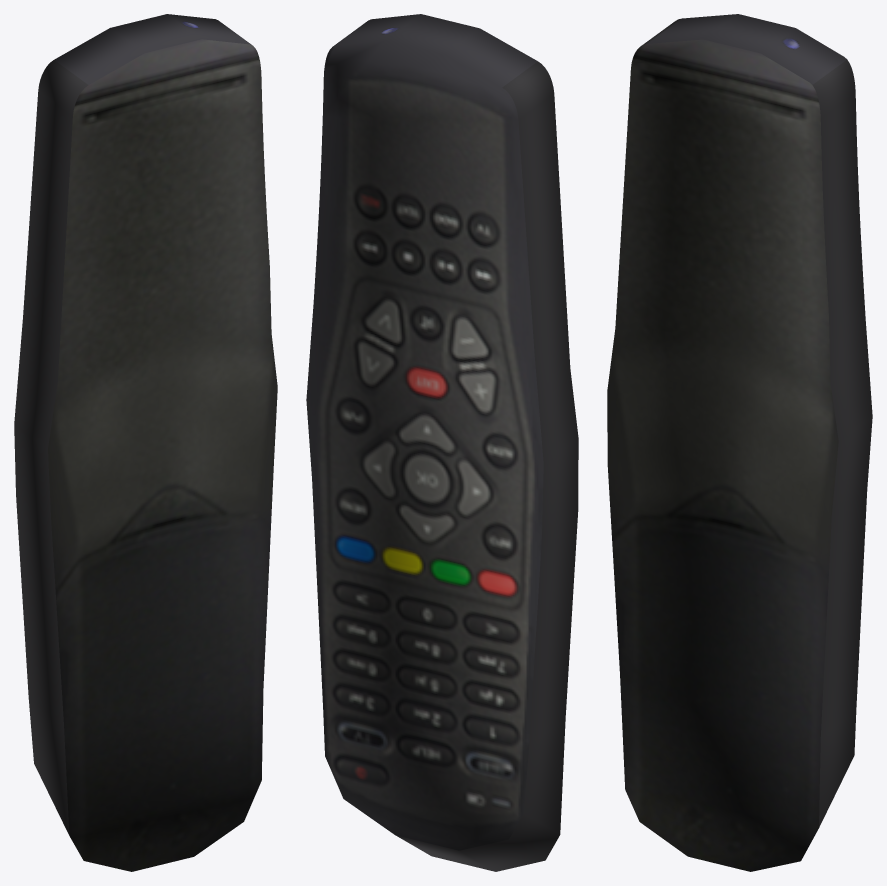
The model's file is r_control.FBX.
The picture shows the model from 3 angles, left to right: view 1: azimuth 30°, elevation 25°; view 2: azimuth 150°, elevation 25°; view 3: azimuth 330°, elevation 25°; orthographic projection. The views are drawn at different scales.
Visible parts, largest first — view 1: r_control; view 2: r_control; view 3: r_control.
Part boxes in pixels (box(x1,y1,x2,y2)): r_control: box(14, 14, 277, 871); r_control: box(306, 14, 578, 871); r_control: box(607, 14, 872, 871).
Bounding box in the file's own units: 31.91 × 108 × 8.64.
